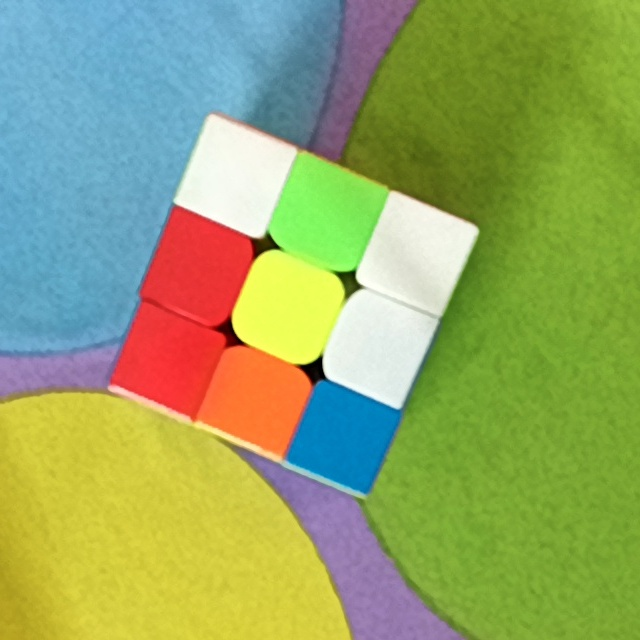tile: (201, 139, 270, 212), (289, 181, 366, 246), (252, 273, 324, 341), (163, 235, 236, 300), (381, 222, 449, 291), (221, 368, 294, 429), (346, 311, 411, 378), (135, 328, 203, 392), (310, 406, 379, 468)
